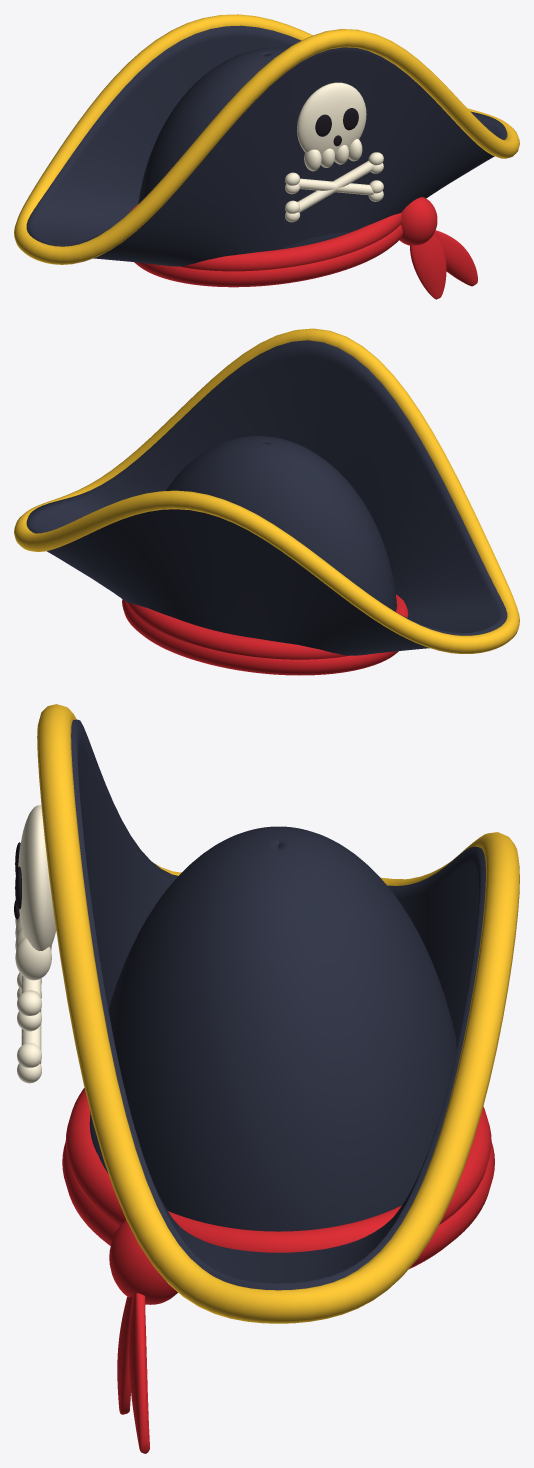
File: PirateHat_Cartoon.glb
The picture shows the model from 3 angles, top to bottom: view 1: azimuth 30°, elevation 25°; view 2: azimuth 150°, elevation 25°; view 3: azimuth 270°, elevation 25°; orthographic projection. The views are drawn at different scales.
Visible parts, largest first — view 1: Sculpted upturned brim, Thick gold piping, Open crown, Red head band, Red head band.001, Skull, Scarf tail 0, Scarf knot, Scarf tail 1, Cross bone.001, Cross bone; view 2: Sculpted upturned brim, Thick gold piping, Open crown, Red head band, Red head band.001; view 3: Open crown, Thick gold piping, Sculpted upturned brim, Red head band.001, Skull, Red head band, Scarf knot, Scarf tail 1, Scarf tail 0, Rounded tooth.003.
Boxes of the visible parts, bbox=[...] form: Sculpted upturned brim: bbox=[26, 25, 507, 266]; Thick gold piping: bbox=[14, 14, 519, 264]; Open crown: bbox=[138, 47, 350, 249]; Red head band: bbox=[134, 225, 402, 287]; Red head band.001: bbox=[130, 204, 401, 271]; Skull: bbox=[297, 82, 366, 155]; Scarf tail 0: bbox=[410, 234, 446, 299]; Scarf knot: bbox=[399, 197, 437, 245]; Scarf tail 1: bbox=[434, 230, 477, 286]; Cross bone.001: bbox=[297, 161, 374, 212]; Cross bone: bbox=[298, 178, 374, 195]; Sculpted upturned brim: bbox=[26, 340, 507, 655]; Thick gold piping: bbox=[14, 328, 519, 653]; Open crown: bbox=[166, 436, 396, 611]; Red head band: bbox=[122, 599, 398, 675]; Red head band.001: bbox=[126, 594, 408, 659]; Open crown: bbox=[89, 826, 456, 1231]; Thick gold piping: bbox=[37, 704, 519, 1323]; Sculpted upturned brim: bbox=[71, 719, 485, 1290]; Red head band.001: bbox=[65, 1088, 491, 1252]; Skull: bbox=[18, 805, 56, 950]; Red head band: bbox=[62, 1142, 494, 1268]; Scarf knot: bbox=[109, 1218, 179, 1304]; Scarf tail 1: bbox=[129, 1293, 149, 1453]; Scarf tail 0: bbox=[117, 1295, 133, 1414]; Rounded tooth.003: bbox=[15, 937, 51, 980].
Size of the model in its own units: 4.55 by 2.79 by 2.21.
